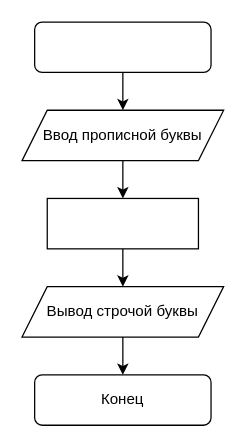
The diagram is 246 pixels wide and 447 high, and some of its shapes have lost their labels. Each missing label, with the centre of its shape:
"Начало" goes at pixel 122 46.
"строчная буква = прописная +32" goes at pixel 122 223.
